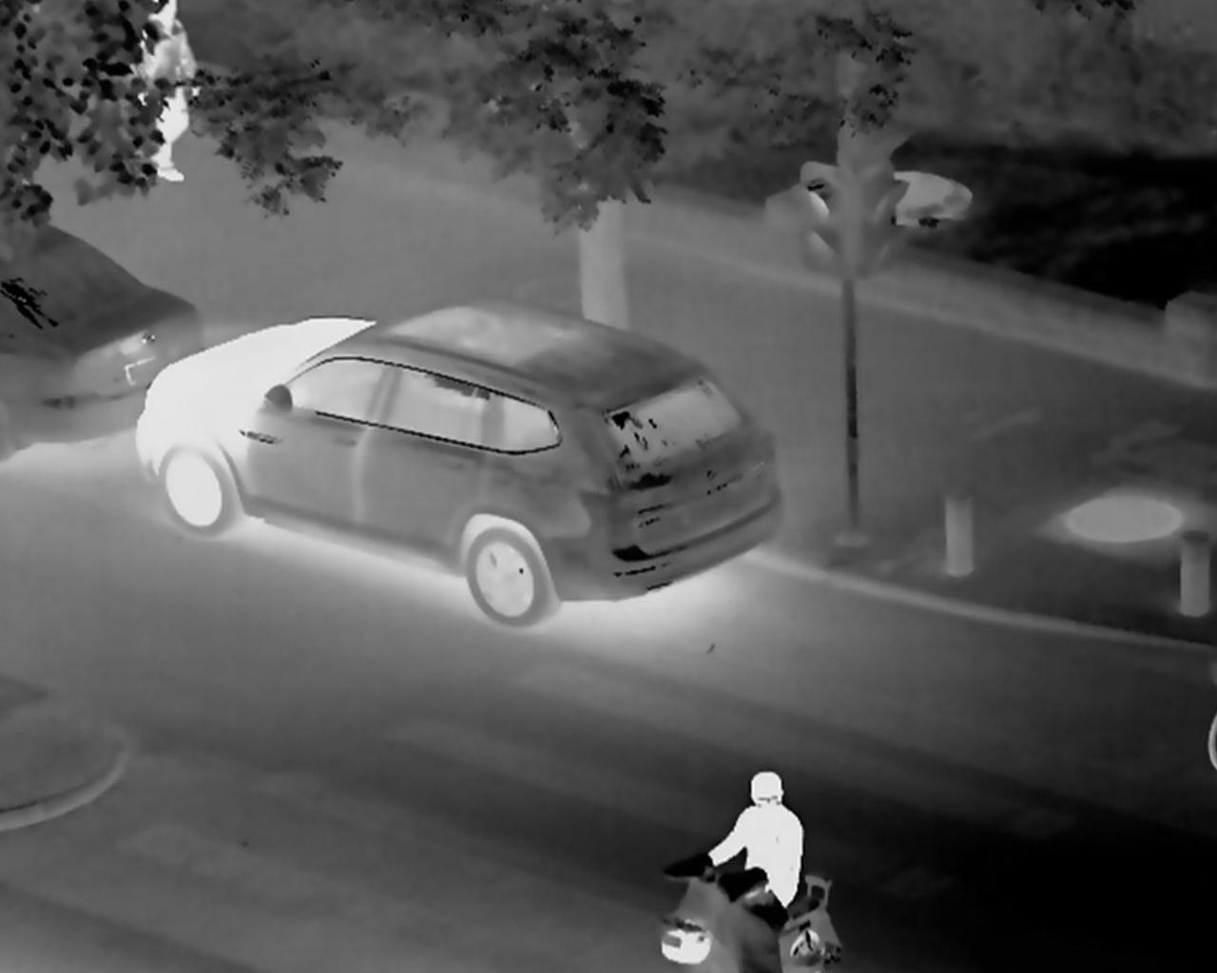person: (701, 769, 822, 948), (143, 3, 203, 181)
